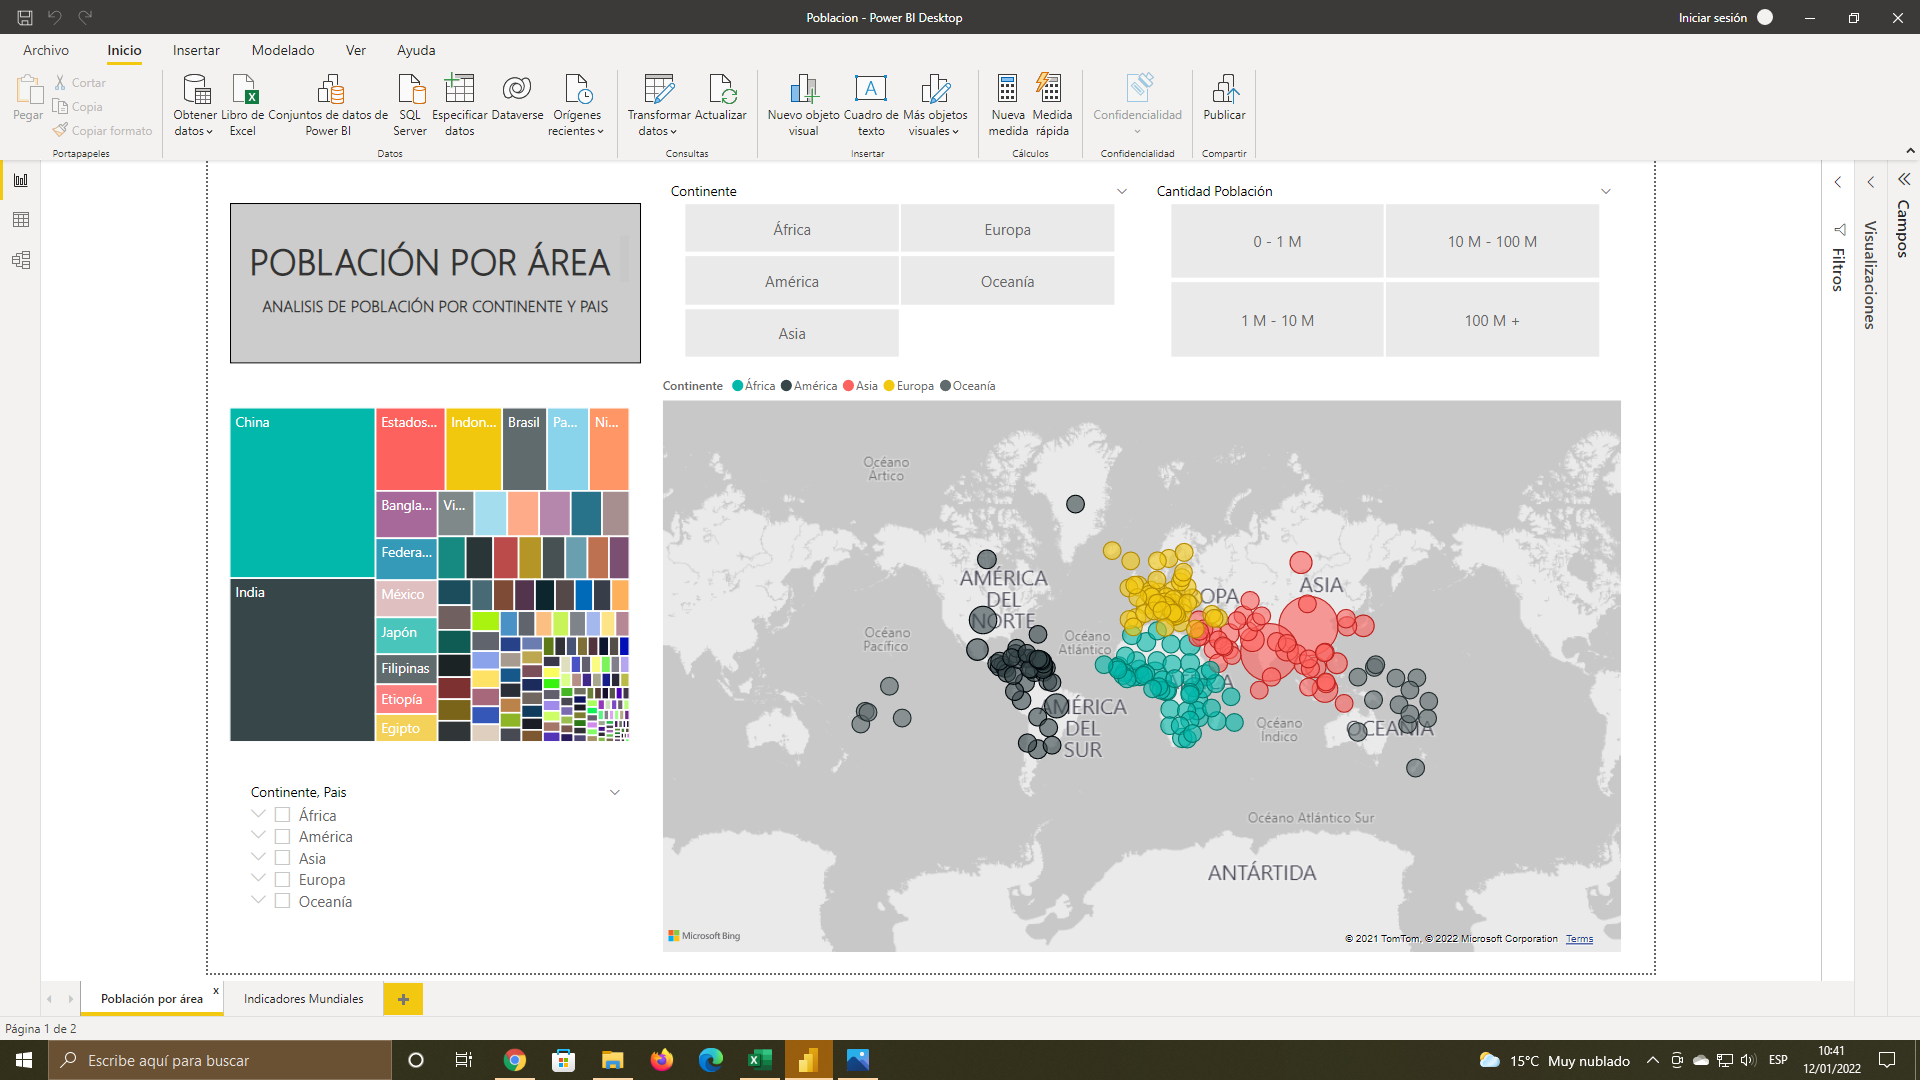

The dashboard page shown, as its layout file describes it:
{"tool":"powerbi","page":{"name":"Población por área","canvas":[1280,720],"ordinal":0},"visuals":[{"type":"slicer","fields":{"Values":["Paises.Continente","Paises.Pais"]},"box":[24.6,546.1,353,149.3],"z":0},{"type":"slicer","fields":{"Values":["Población.Cantidad Población"]},"box":[827.1,14,428.5,166.8],"z":1000},{"type":"slicer","fields":{"Values":["Paises.Continente"]},"box":[396.9,14,430.2,166.8],"z":2000},{"type":"treemap","fields":{"Group":["Paises.Pais"],"Values":["Sum(Población.Poblacion)"]},"box":[14.1,214.2,363.5,305.8],"z":3000},{"type":"map","fields":{"Category":["Paises.Pais"],"Size":["Avg(Población.Poblacion)"],"Series":["Paises.Continente"]},"box":[397.3,180.4,859.5,525.6],"z":4000},{"type":"shape","box":[19.7,38,363.5,142.3],"z":5000},{"type":"textbox","box":[24,62,353.7,52.1],"z":6000},{"type":"textbox","box":[19.7,114.1,363.5,35.2],"z":7000}]}

Visuals, with their boxes on the page's 1280x720 design canvas (x1, y1, x2, y2). These are canvas units, not pixel positions in the 1920x1080 screenshot, which may show the page scaled, cropped or inside an application window:
slicer - Paises.Continente x Paises.Pais: (25, 546, 378, 695)
slicer - Población.Cantidad Población: (827, 14, 1256, 181)
slicer - Paises.Continente: (397, 14, 827, 181)
treemap - Paises.Pais x Sum(Población.Poblacion): (14, 214, 378, 520)
map - Paises.Pais x Avg(Población.Poblacion): (397, 180, 1257, 706)
shape: (20, 38, 383, 180)
textbox: (24, 62, 378, 114)
textbox: (20, 114, 383, 149)
